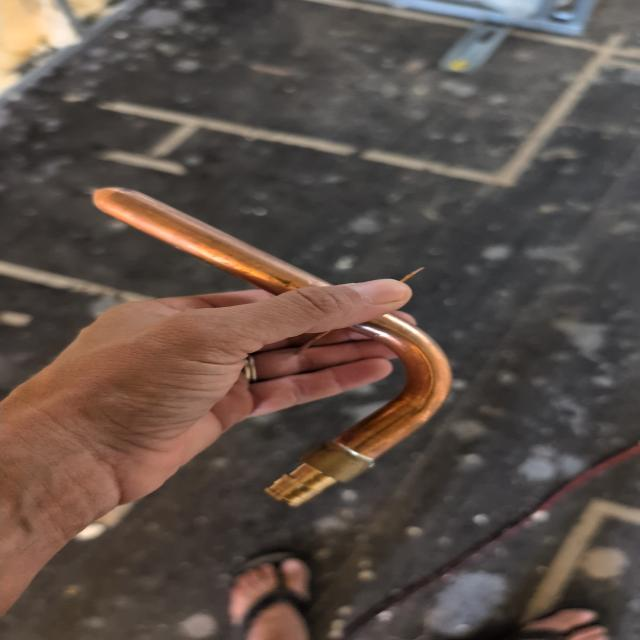wall_flange: (77, 180, 461, 507)
